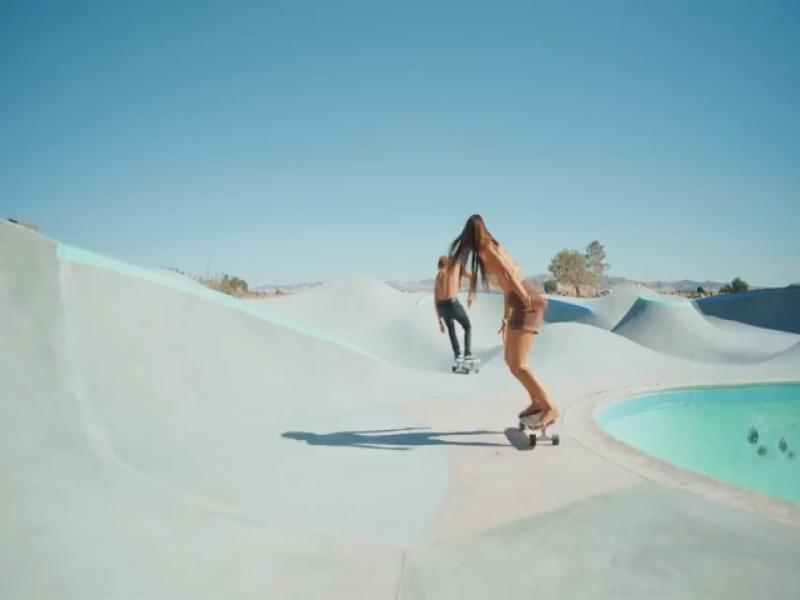person: (452, 215, 559, 431), (434, 256, 480, 373)
skate: (514, 405, 568, 454)
